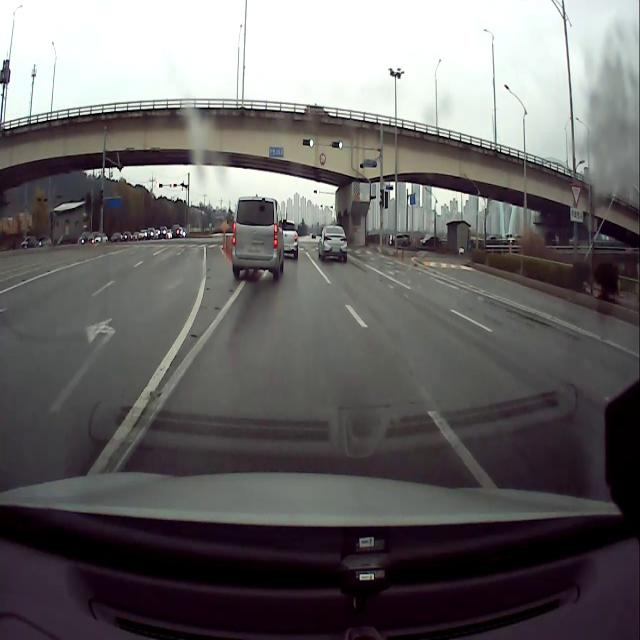Green Light: (309, 138, 314, 148), (338, 140, 342, 149)
